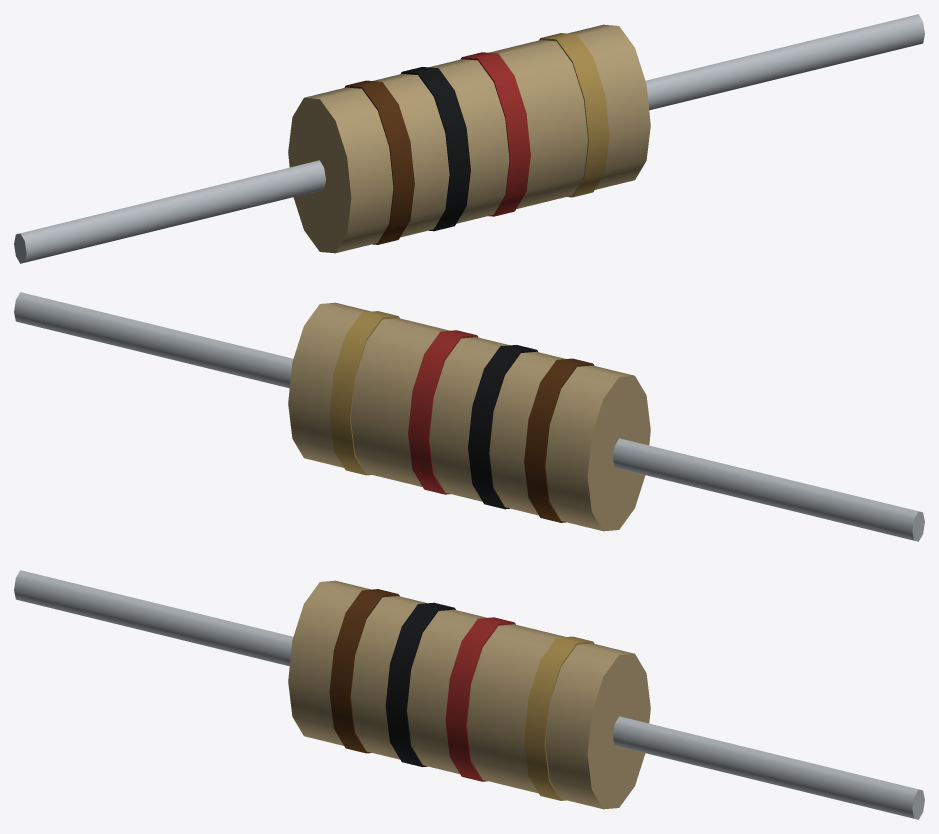
File: cmp-resistor.glb
3 renders of one model, top to bottom at view 1: azimuth 30°, elevation 25°; view 2: azimuth 150°, elevation 25°; view 3: azimuth 330°, elevation 25°, orthographic.
Visible parts, largest first — view 1: STATIC_paint, STATIC_metal; view 2: STATIC_paint, STATIC_metal; view 3: STATIC_paint, STATIC_metal.
Part boxes in pixels (left/top/right/bottom): STATIC_paint: left=288, top=24, right=650, bottom=253; STATIC_metal: left=14, top=14, right=924, bottom=263; STATIC_paint: left=288, top=302, right=650, bottom=531; STATIC_metal: left=14, top=292, right=924, bottom=541; STATIC_paint: left=288, top=580, right=650, bottom=809; STATIC_metal: left=14, top=570, right=924, bottom=819.
Bounding box in the file's own units: 0.024 × 0.004 × 0.003.
